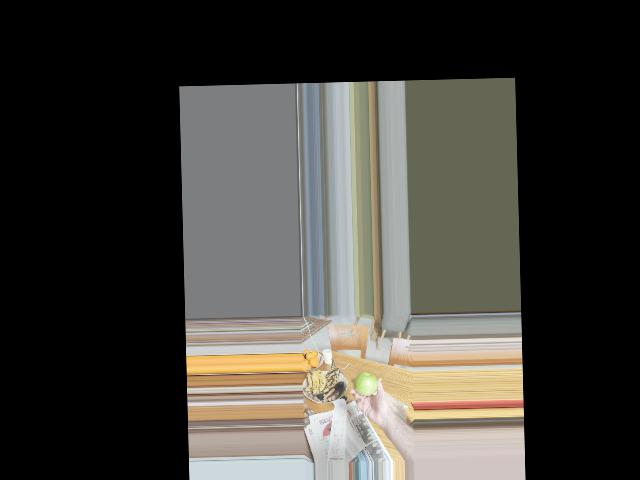apple: (353, 371, 377, 397)
